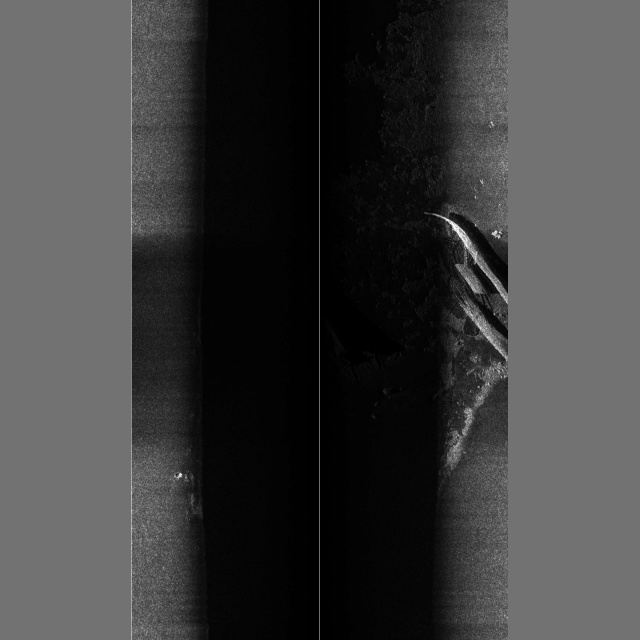Shipwreck: (422, 211, 508, 363)
